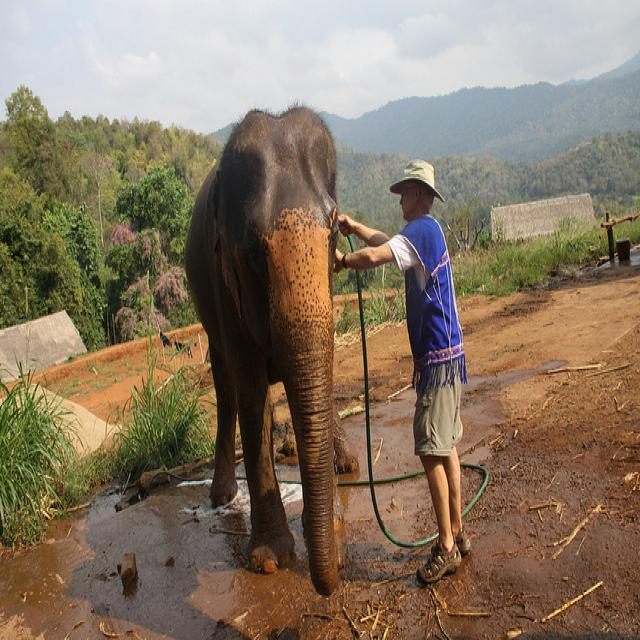Elephant: (184, 102, 359, 596)
person: (333, 158, 471, 584)
